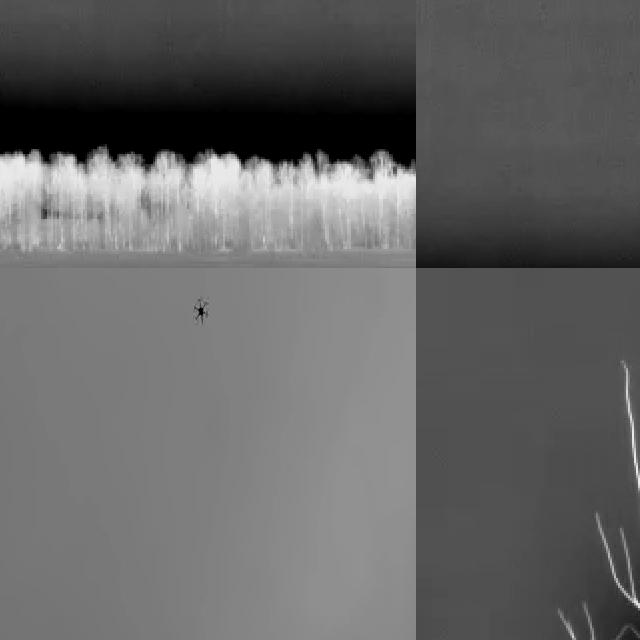drone: (190, 294, 213, 329)
